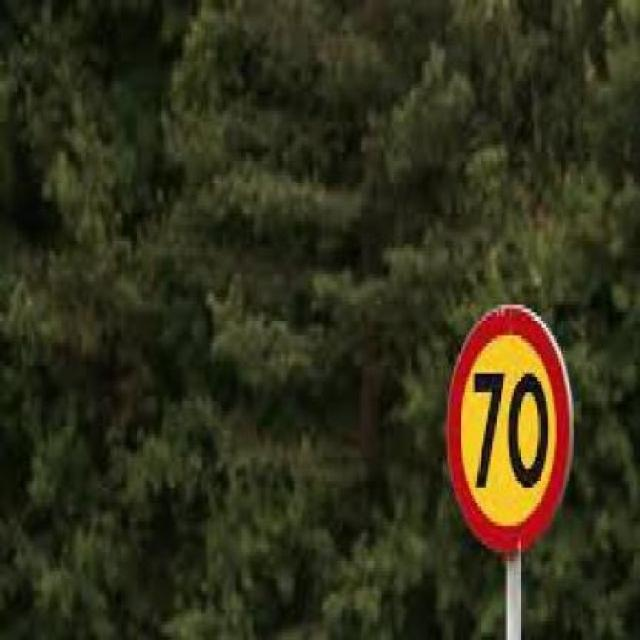forb_speed_over_70: (446, 308, 569, 552)
